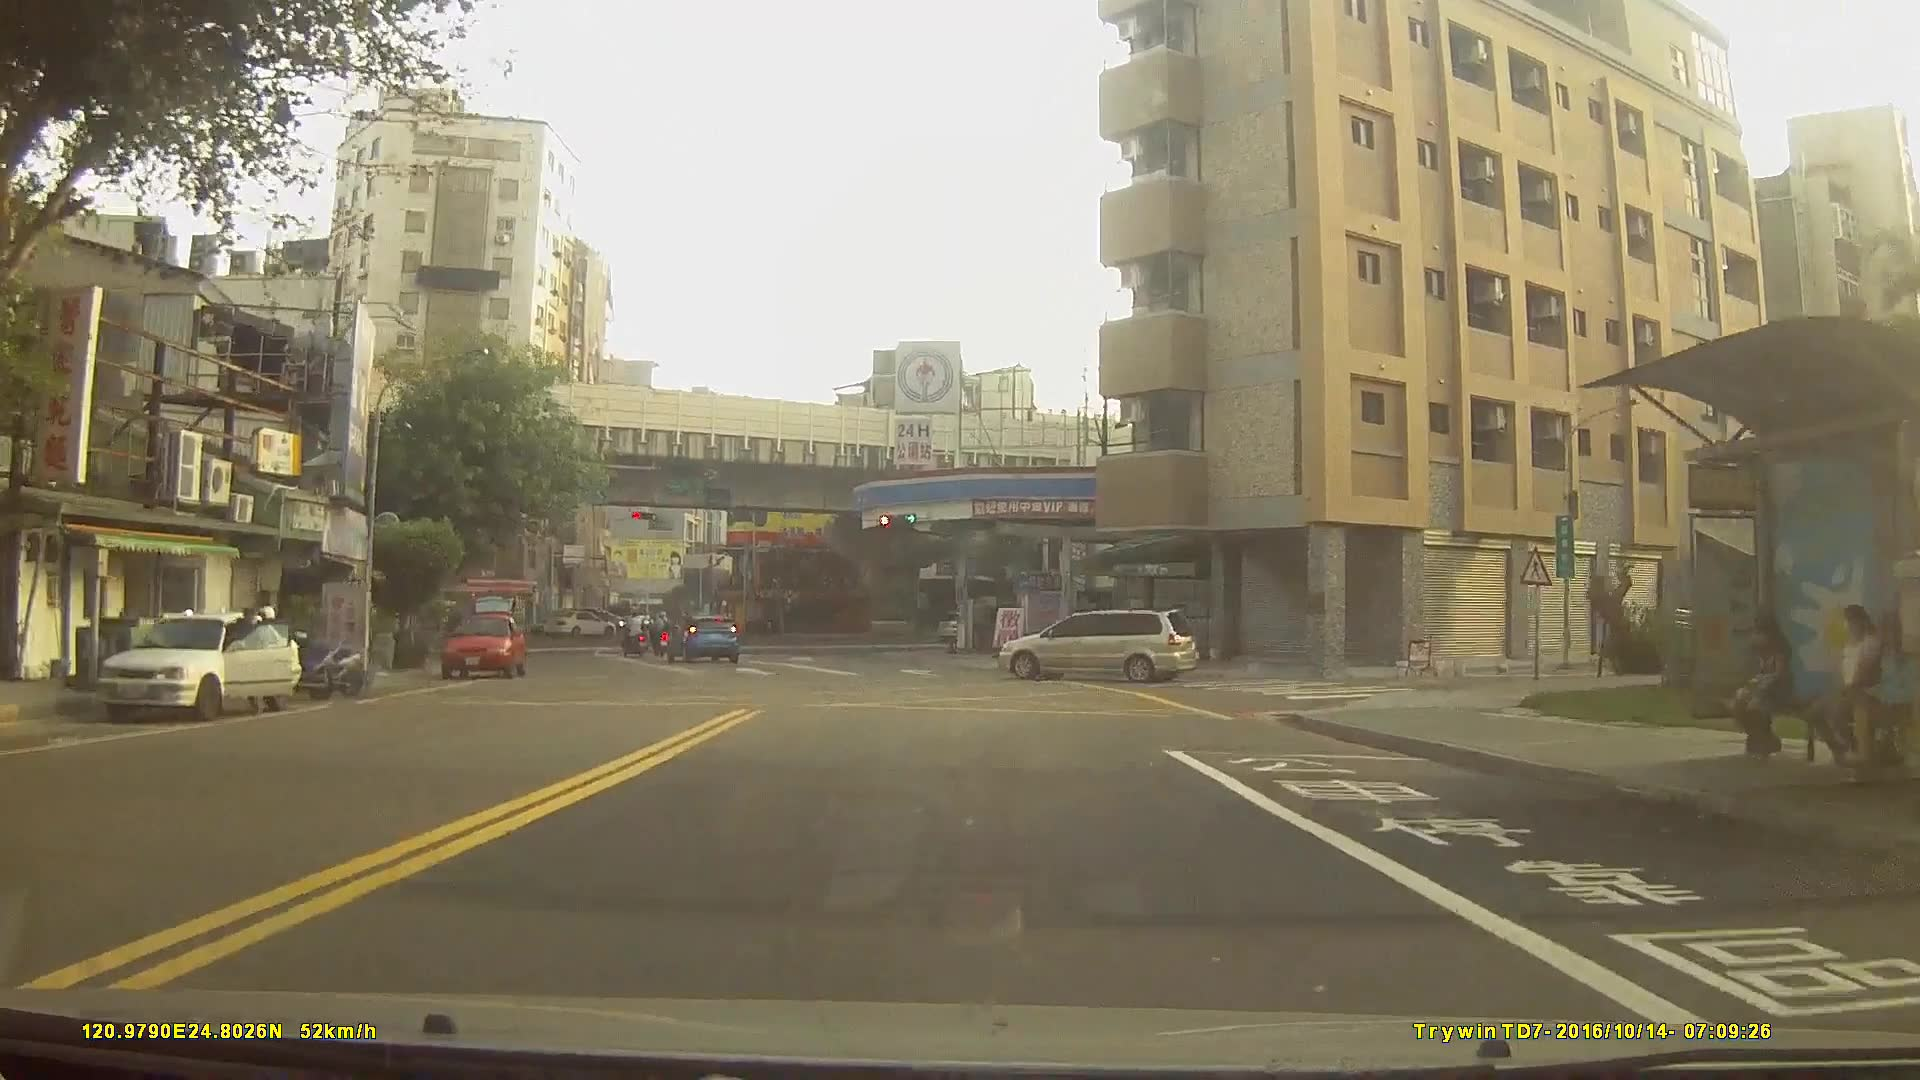pedestrian: (1835, 598, 1894, 782), (1728, 619, 1793, 768)
rider: (616, 612, 647, 663)
vehicle: (96, 612, 303, 725), (995, 608, 1200, 680), (440, 613, 529, 679), (662, 616, 739, 665), (543, 609, 616, 640), (530, 608, 598, 639)
